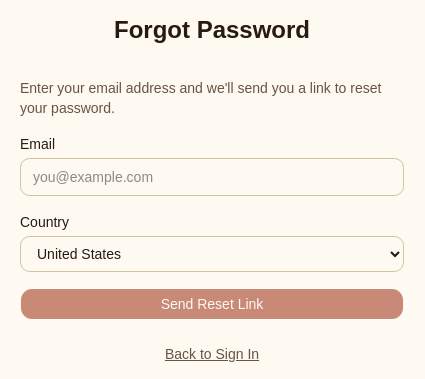
ForgotPasswordPage country selection › submits the selected country rather than the guest default
Step 1. Type "buyer@example.test" into the field labelled "Email" → point(212, 177), box [20,158,404,196]
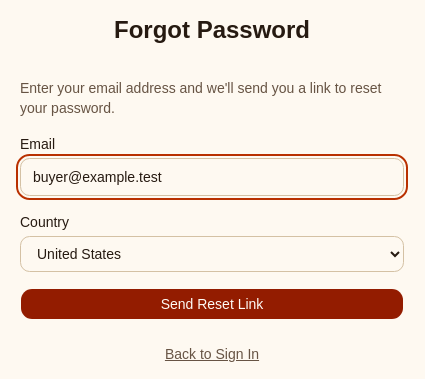
Step 2. Select "United Kingdom" in the dropdown labelled "Country" → point(212, 254), box [20,236,404,272]
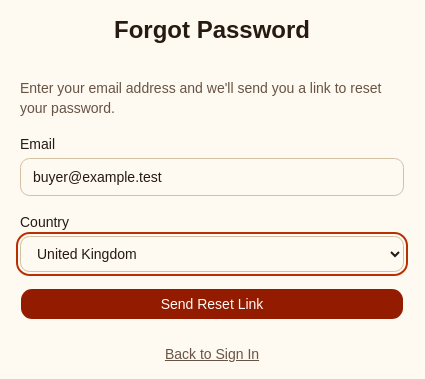
Step 3. Click the button "Send Reset Link" → point(212, 304), box [20,288,404,320]
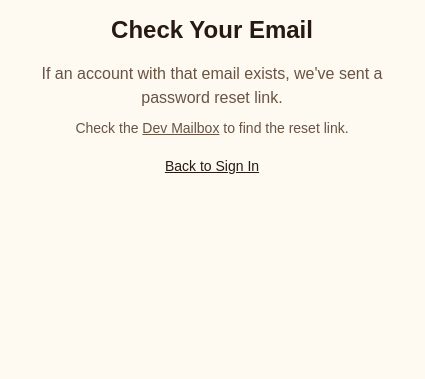
Expected: the heading "Check Your Email" is shown, [111,16,313,43]
